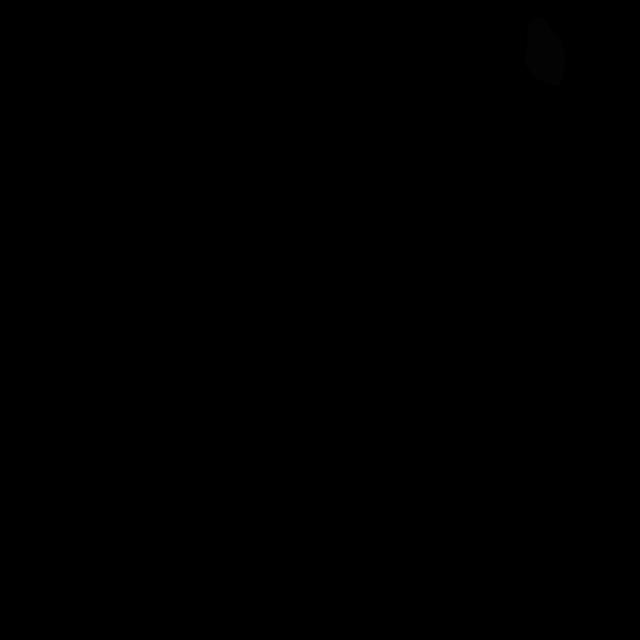metal: (524, 17, 564, 85)
